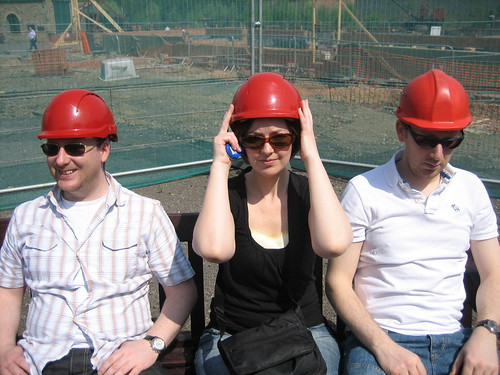person hardhat: (1, 89, 200, 375), (327, 68, 500, 375), (190, 66, 353, 375)
